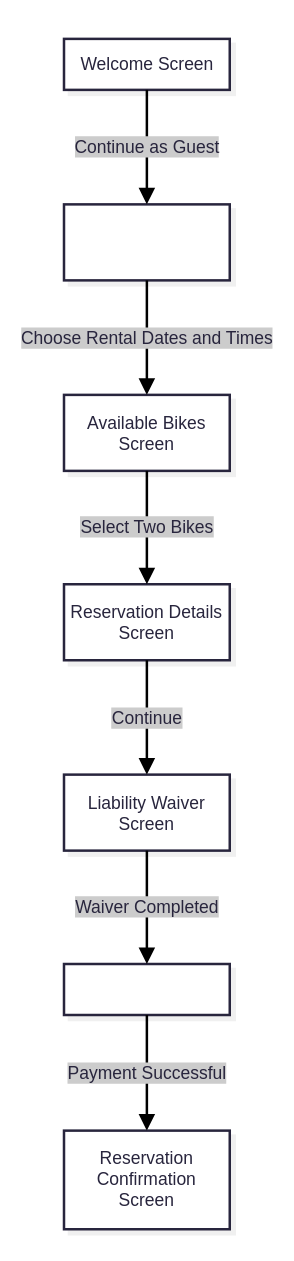
The diagram is 294 pixels wide and 1261 high, and some of its shapes have lost their labels. Here are the shapes that lost their labels. From the top down, the centre of each, then its label:
(148,244): Bike Rental Screen
(148,991): Checkout Screen
